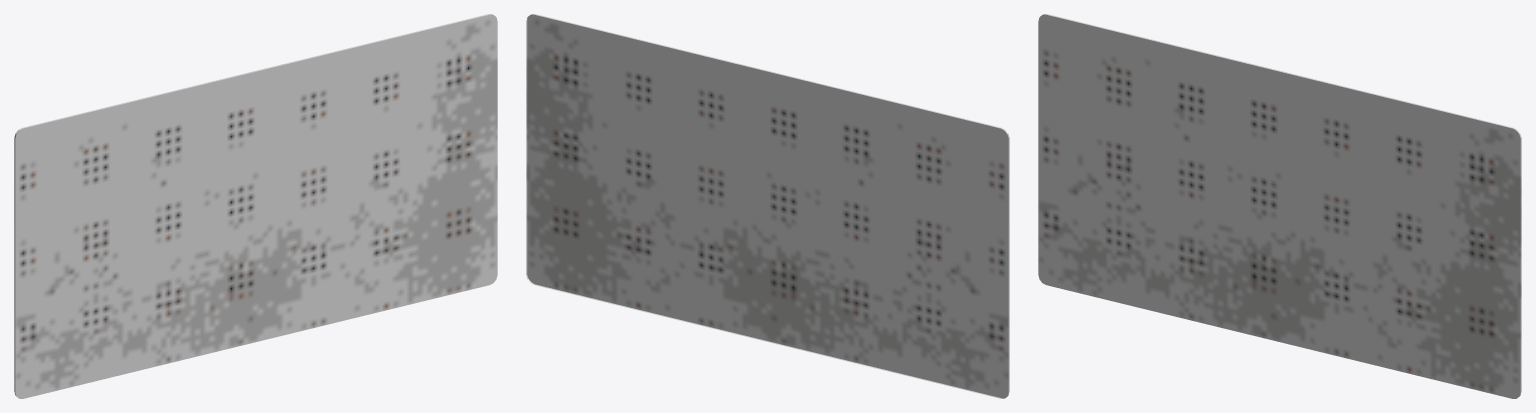
Rendered from Board.fbx.
The picture shows the model from 3 angles, left to right: view 1: azimuth 30°, elevation 25°; view 2: azimuth 150°, elevation 25°; view 3: azimuth 330°, elevation 25°; orthographic projection.
Parts seen in each view (by area): view 1: WorkBenchBoard; view 2: WorkBenchBoard; view 3: WorkBenchBoard.
Part boxes in pixels (x1,y1,x2,y2): WorkBenchBoard: (14, 14, 497, 398); WorkBenchBoard: (526, 14, 1009, 398); WorkBenchBoard: (1038, 14, 1521, 398).
Bounding box in the file's own units: 2.01 × 1.08 × 0.0072.
